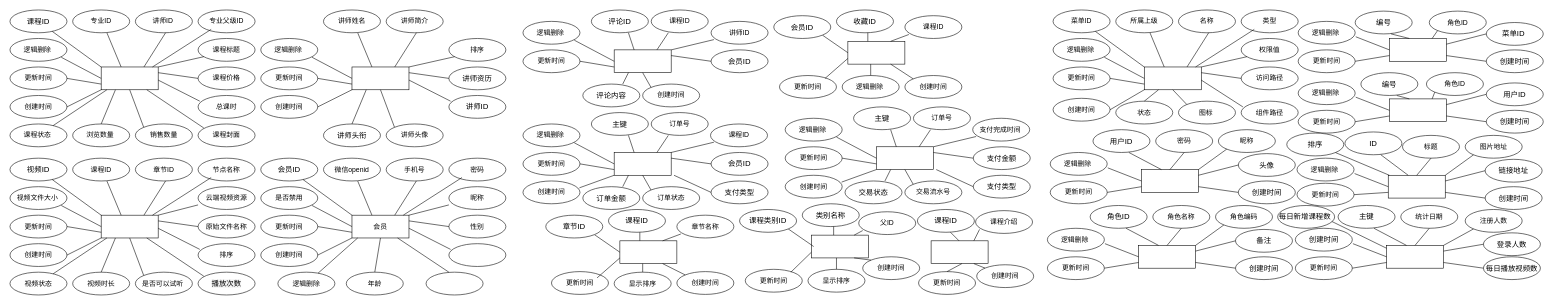
The diagram is 1553 pixels wide and 305 high, and some of its shapes have lost their labels. The shapes that lost their labels are listed below. From the top down, each one's centre as x and y in pixels, then its label:
At point (642, 61): "课程评论".
At point (876, 52): "课程收藏".
At point (1417, 49): "角色权限".
At point (129, 78): "课程".
At point (380, 78): "讲师".
At point (1172, 78): "菜单".
At point (1417, 110): "用户角色".
At point (642, 163): "订单".
At point (904, 158): "支付日志".
At point (1169, 180): "管理员".
At point (1416, 186): "banner".
At point (129, 226): "课程小节".
At point (839, 246): "课程科目".
At point (477, 254): "会员头像".
At point (648, 252): "课程章节".
At point (959, 252): "课程简介".
At point (1167, 256): "角色".
At point (1415, 256): "网站统计日数据".
At point (454, 283): "会员签名".
